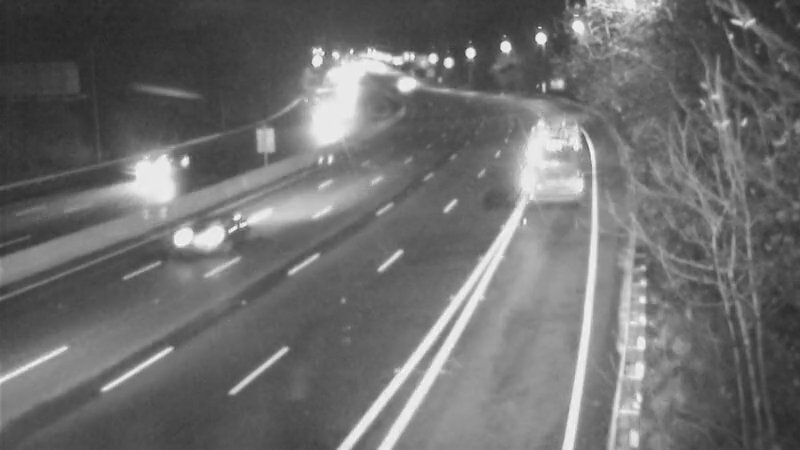vehicle: (171, 194, 251, 274), (104, 132, 184, 212), (523, 121, 573, 171)
